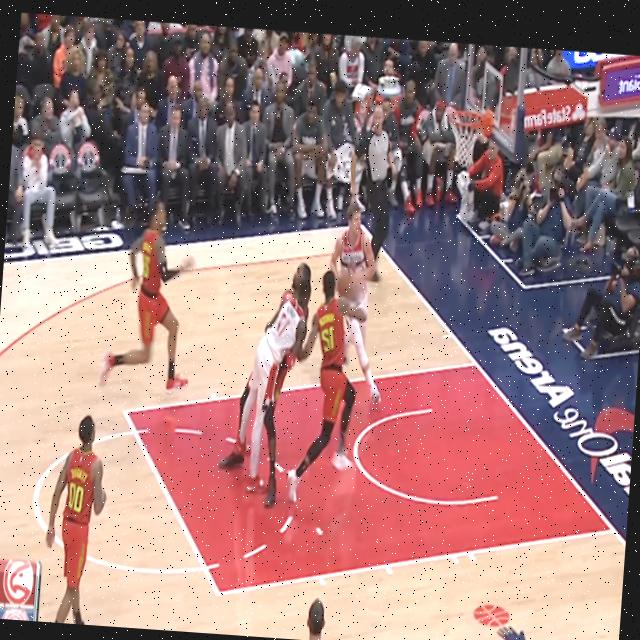foul: (190, 248, 322, 540)
